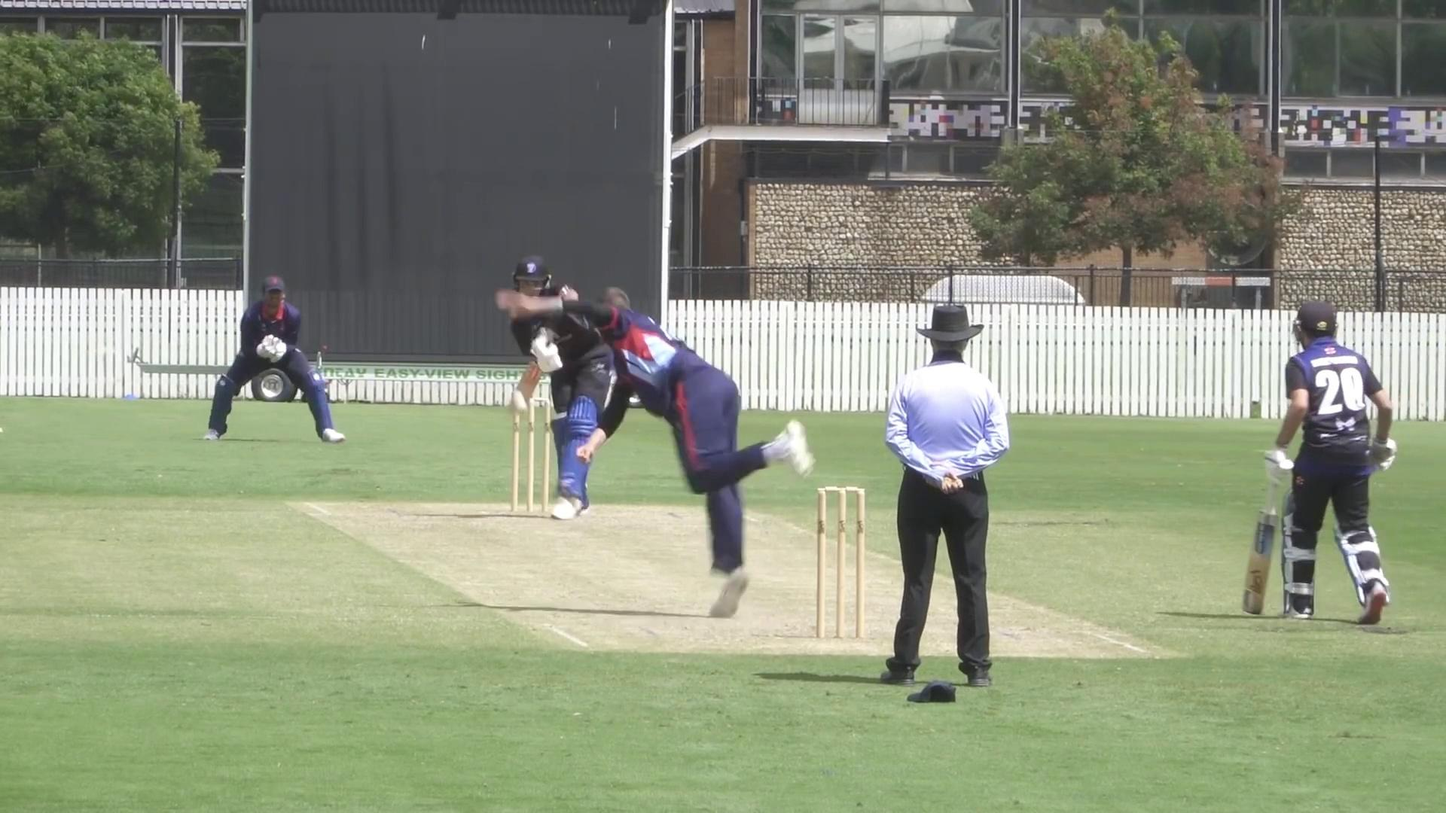ball: (509, 387, 531, 415)
